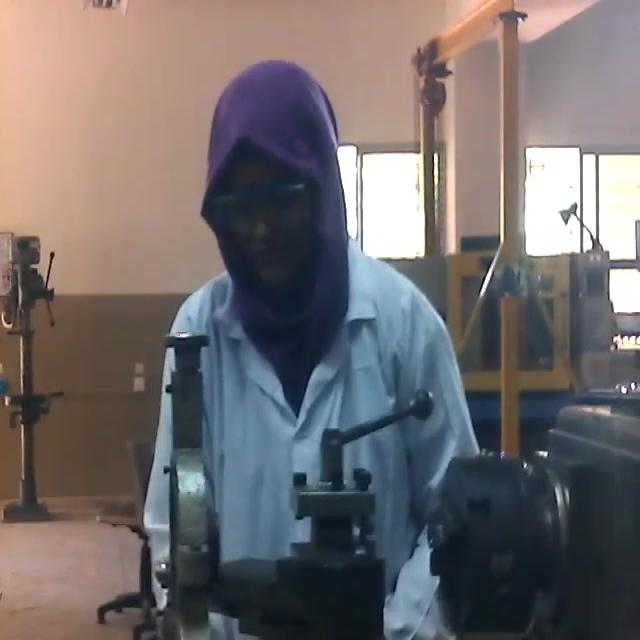googles: (210, 175, 314, 237)
labcoat: (138, 228, 480, 640)
